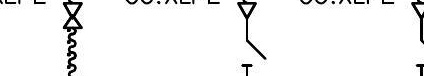terminator_single: (236, 1, 258, 19)
terminator_splicing_kits: (62, 1, 83, 29)
